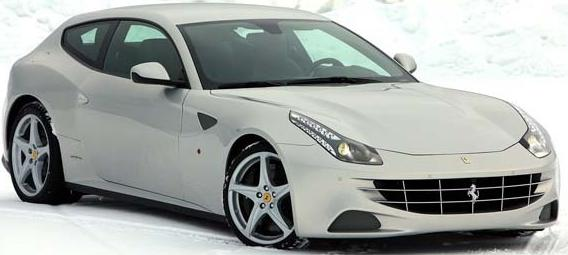front_view: (285, 89, 564, 255)
headlight: (279, 97, 395, 177)
side_glass: (77, 16, 207, 94)
